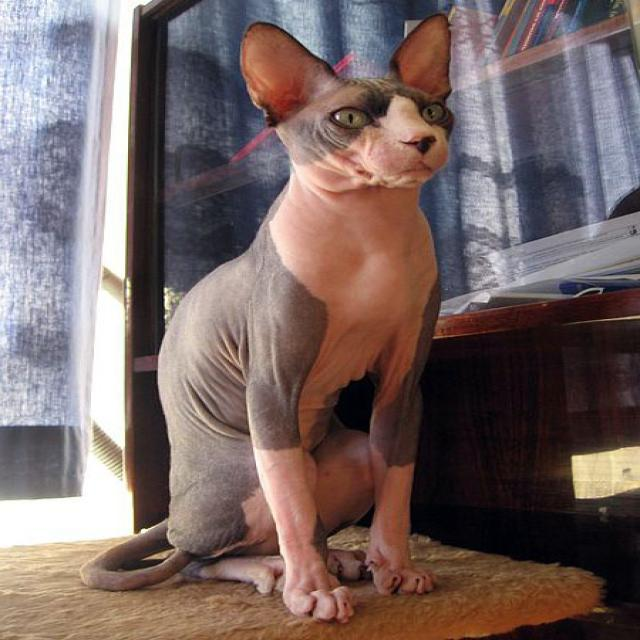Sphynx: (226, 11, 465, 202)
